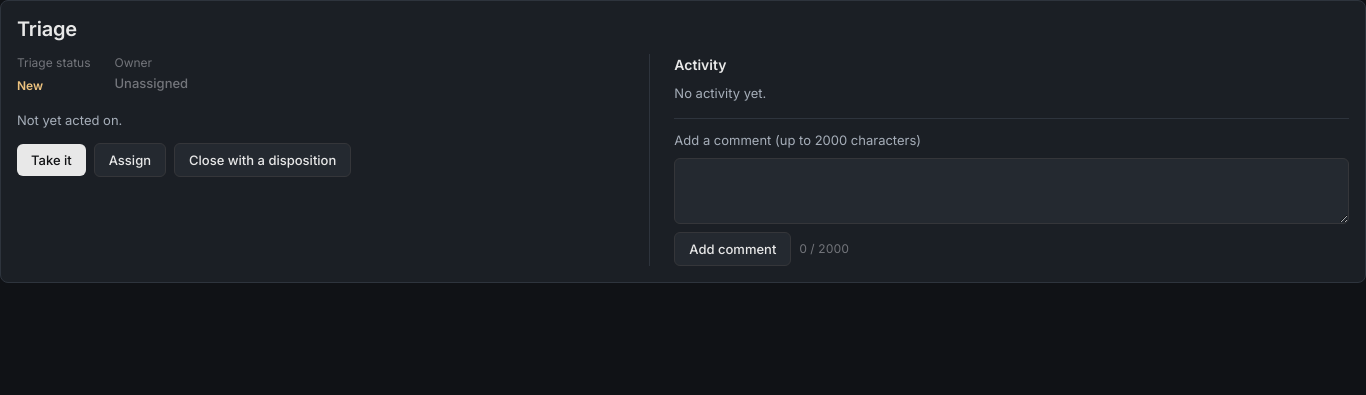
Test: a 409 conflict › says so when their version cannot be read
Click the button "Take it" at (51, 160), box [17,144,86,176]
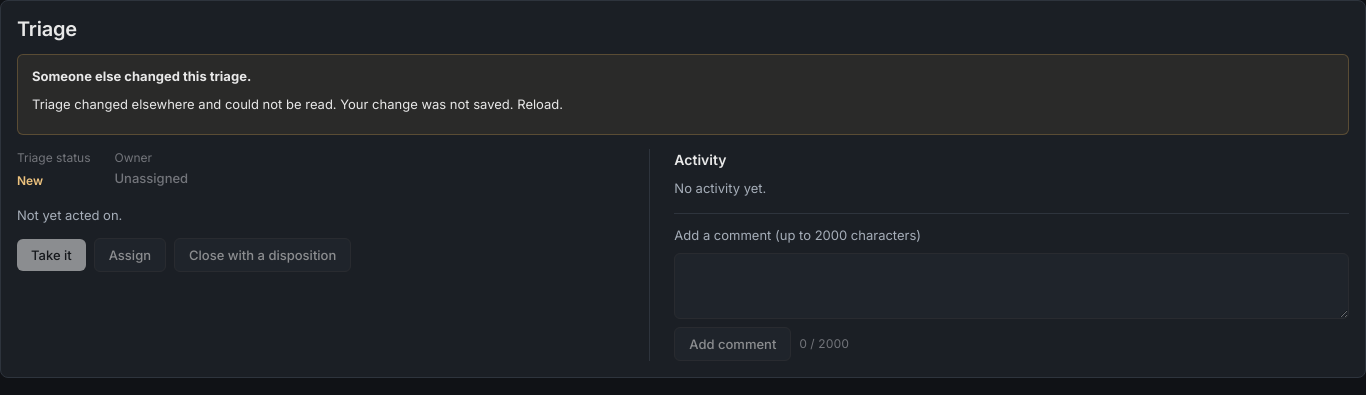
Check: the message shows "could not be read. Your change was not saved. Reload", box [32,96,563,112]
